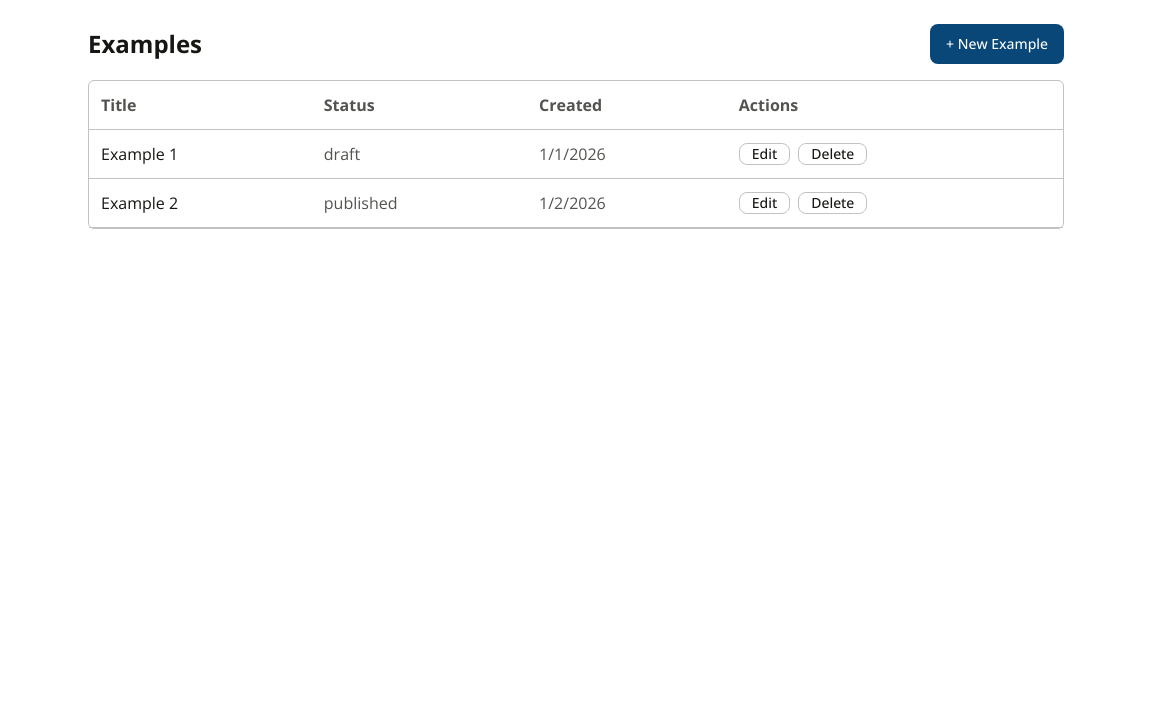
Test: ExamplesPage › [+ New Example] 클릭 후 폼 제출이 성공할 때 다이얼로그가 닫히고 목록이 refetch된다
The width and height of the screenshot is (1152, 720).
Expected: the text "Example 1" is shown, [89, 130, 312, 178]
Click the button "+ New Example".
click(997, 44)  # box [930, 24, 1064, 64]
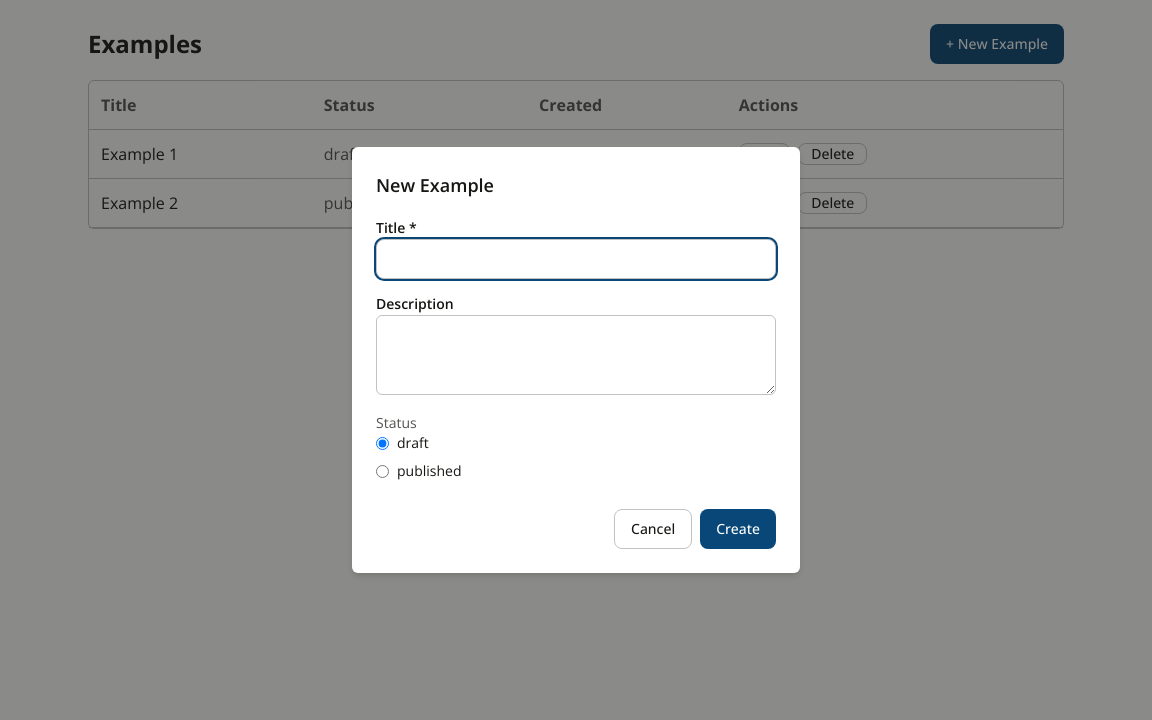
Type "새 항목" into the field labelled "Title *".
click(576, 259); type("새 항목")  # box [376, 239, 776, 279]
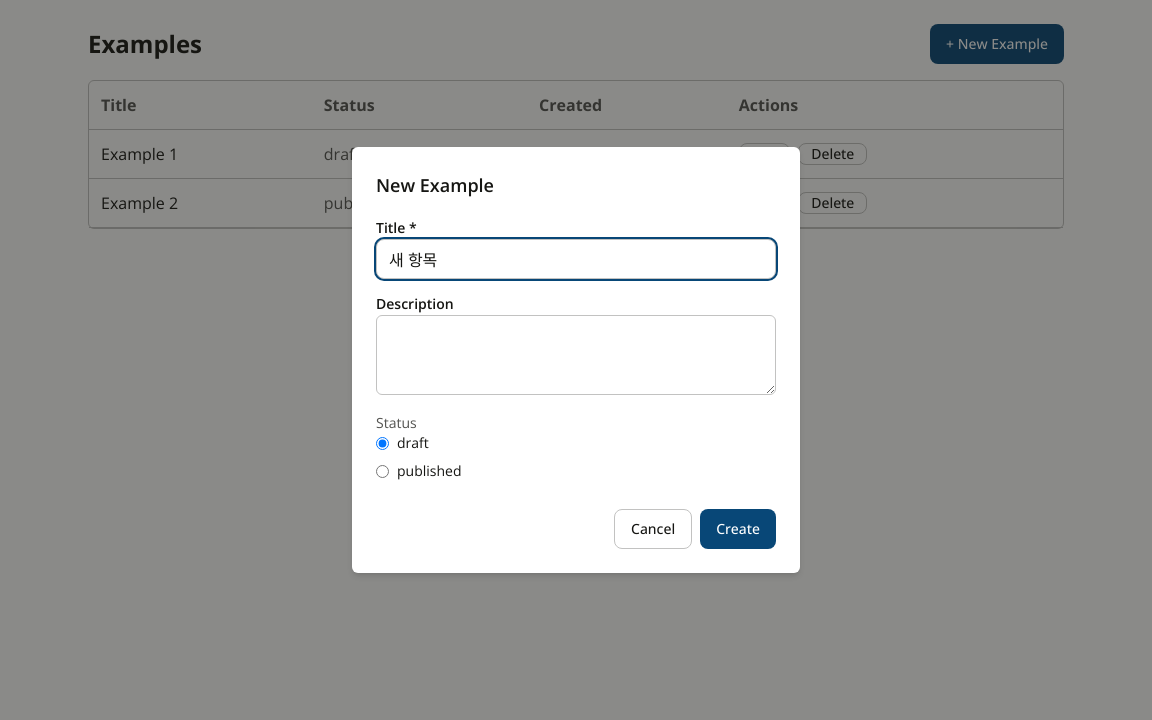
Click the button "Create".
click(738, 529)  # box [700, 509, 776, 549]
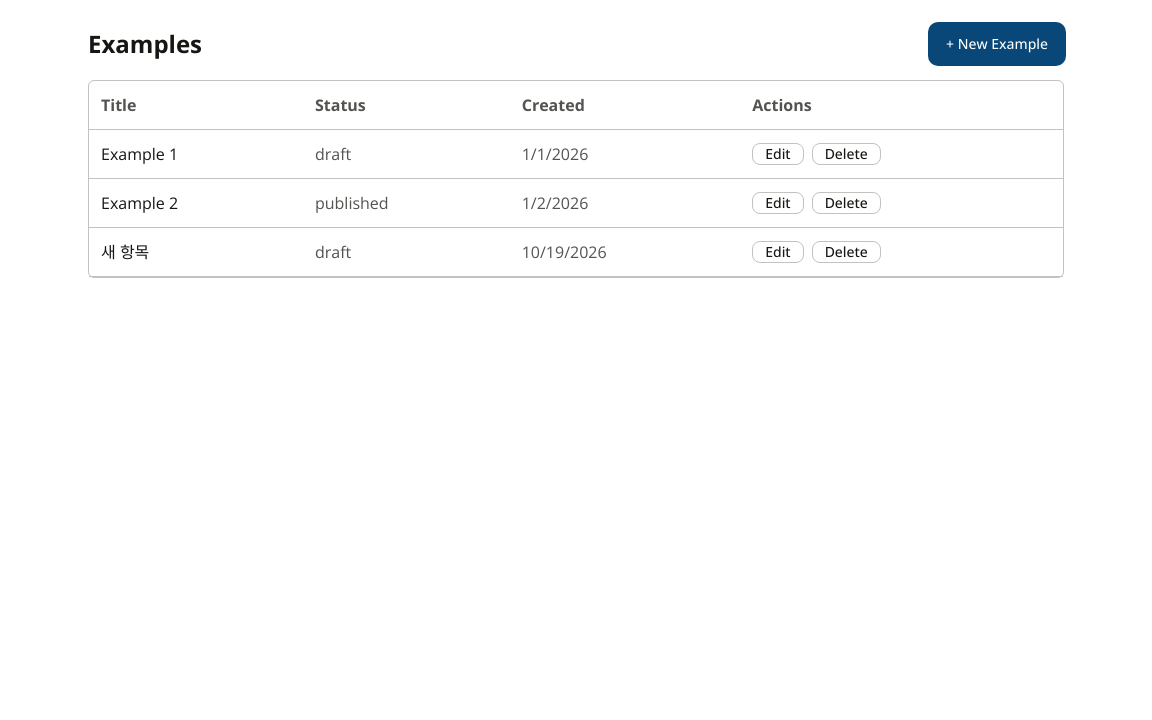
Expected: the dialog is gone
Expected: the text "새 항목" is shown, [89, 228, 303, 276]
